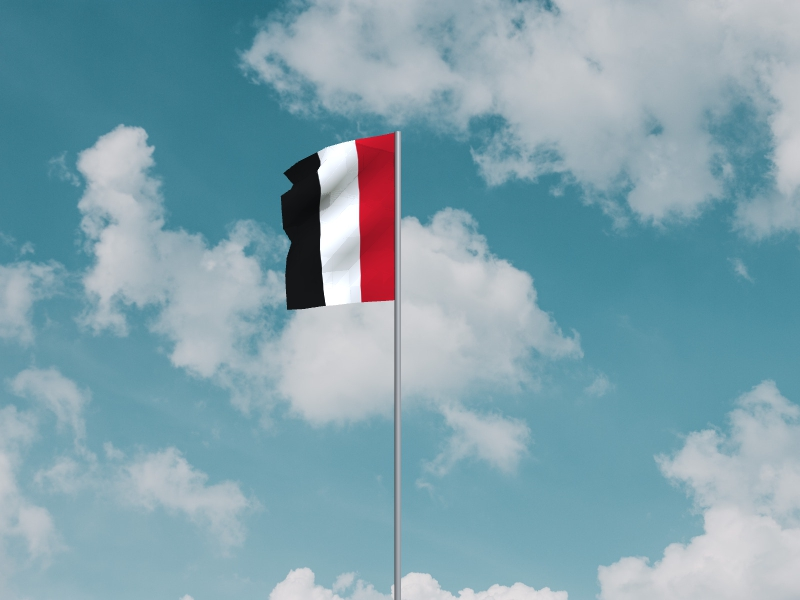ye: (280, 133, 397, 312)
